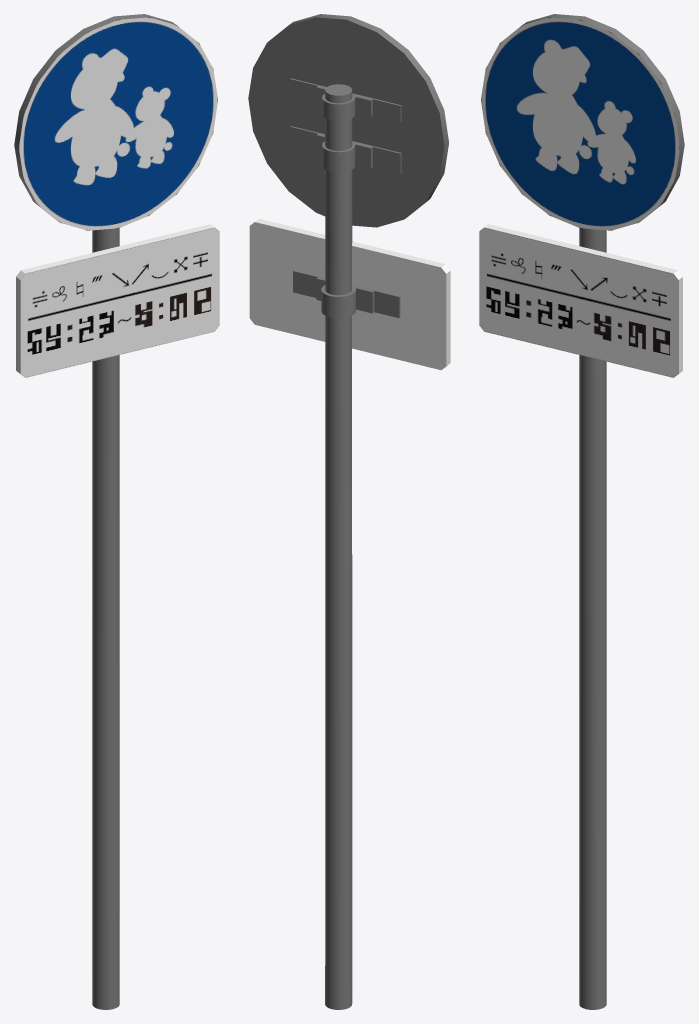
The model's file is road_sign1.fbx.
3 renders of one model, left to right at view 1: azimuth 30°, elevation 25°; view 2: azimuth 150°, elevation 25°; view 3: azimuth 330°, elevation 25°, orthographic.
Visible parts, largest first — view 1: maruhyousikikanban, hojohyousiki, hasira; view 2: hasira, maruhyousikikanban, hojohyousiki; view 3: maruhyousikikanban, hojohyousiki, hasira.
Part boxes in pixels (box(x1,y1,x2,y2)): maruhyousikikanban: box(14, 14, 217, 230); hojohyousiki: box(16, 224, 219, 377); hasira: box(92, 228, 119, 1009); hasira: box(290, 78, 401, 1009); maruhyousikikanban: box(248, 14, 448, 227); hojohyousiki: box(249, 218, 450, 369); maruhyousikikanban: box(481, 14, 684, 230); hojohyousiki: box(479, 224, 682, 377); hasira: box(579, 228, 606, 1009).
Size of the model in its own units: 100 by 476 by 19.99.
Materials: 4 (2 with a texture image).
